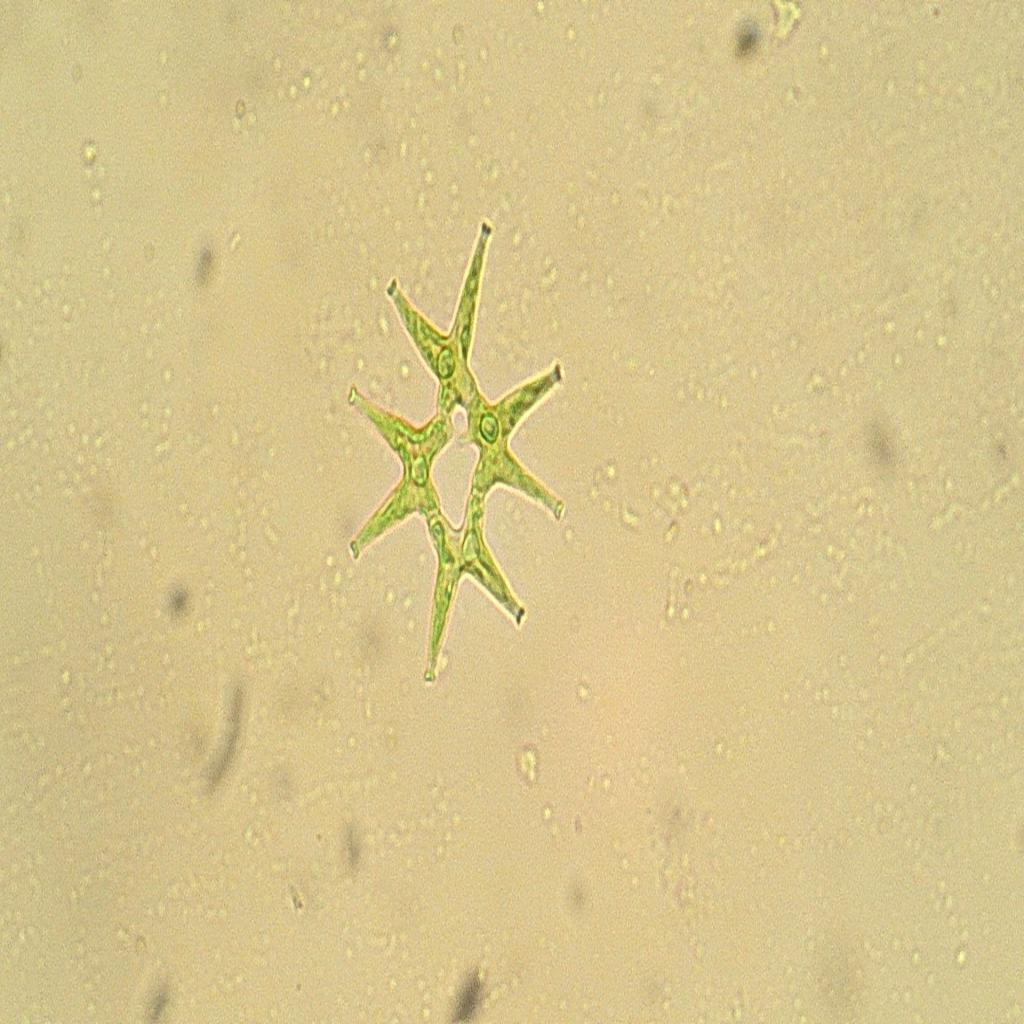Pediastrum_CF: (332, 206, 576, 688)
